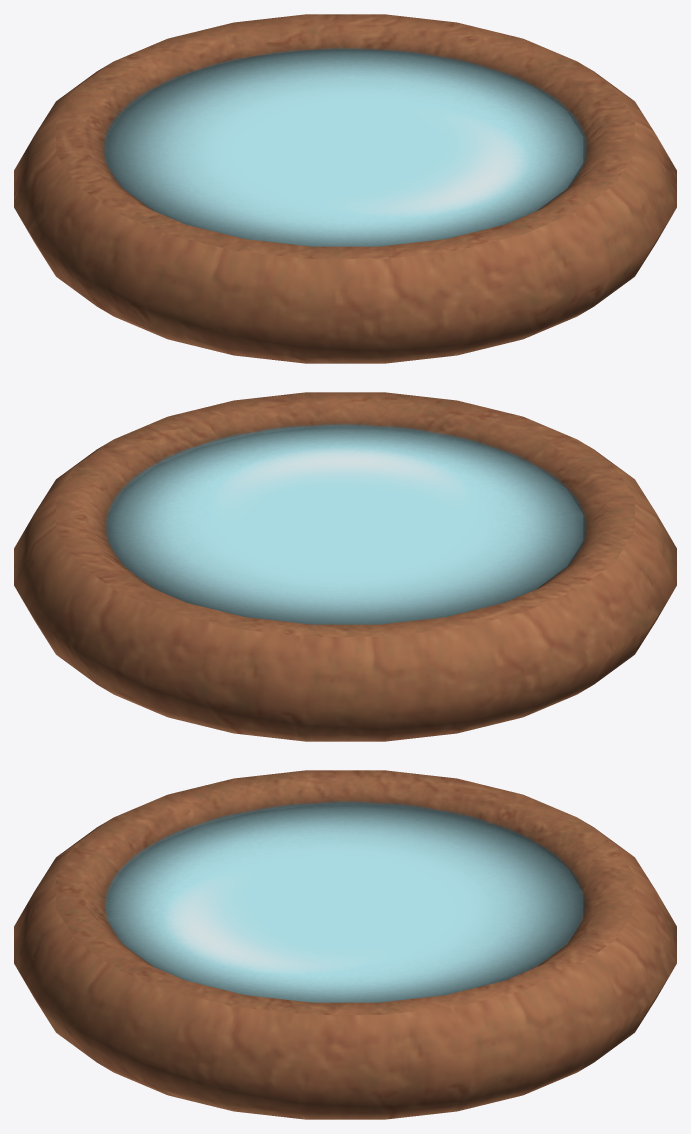
File: observatory-lens.glb
3 views of the same model, one above another, from view 1: azimuth 30°, elevation 25°; view 2: azimuth 150°, elevation 25°; view 3: azimuth 270°, elevation 25° (orthographic).
Visible parts, largest first — view 1: observatory-lens; view 2: observatory-lens; view 3: observatory-lens.
Boxes of the visible parts, bbox=[...] form: observatory-lens: bbox=[14, 14, 676, 363]; observatory-lens: bbox=[14, 392, 676, 741]; observatory-lens: bbox=[14, 770, 676, 1119].
Bounding box in the file's own units: 10.74 × 1.87 × 10.74.
1 material, 1 textured.
